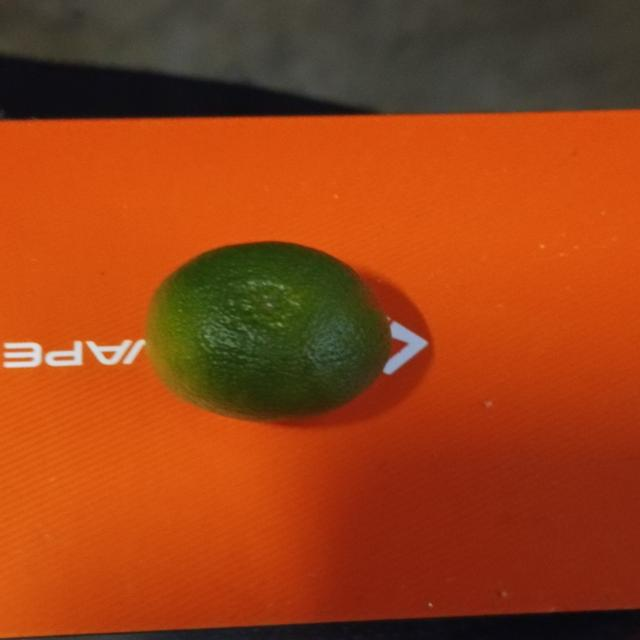heathy: (138, 236, 395, 430)
